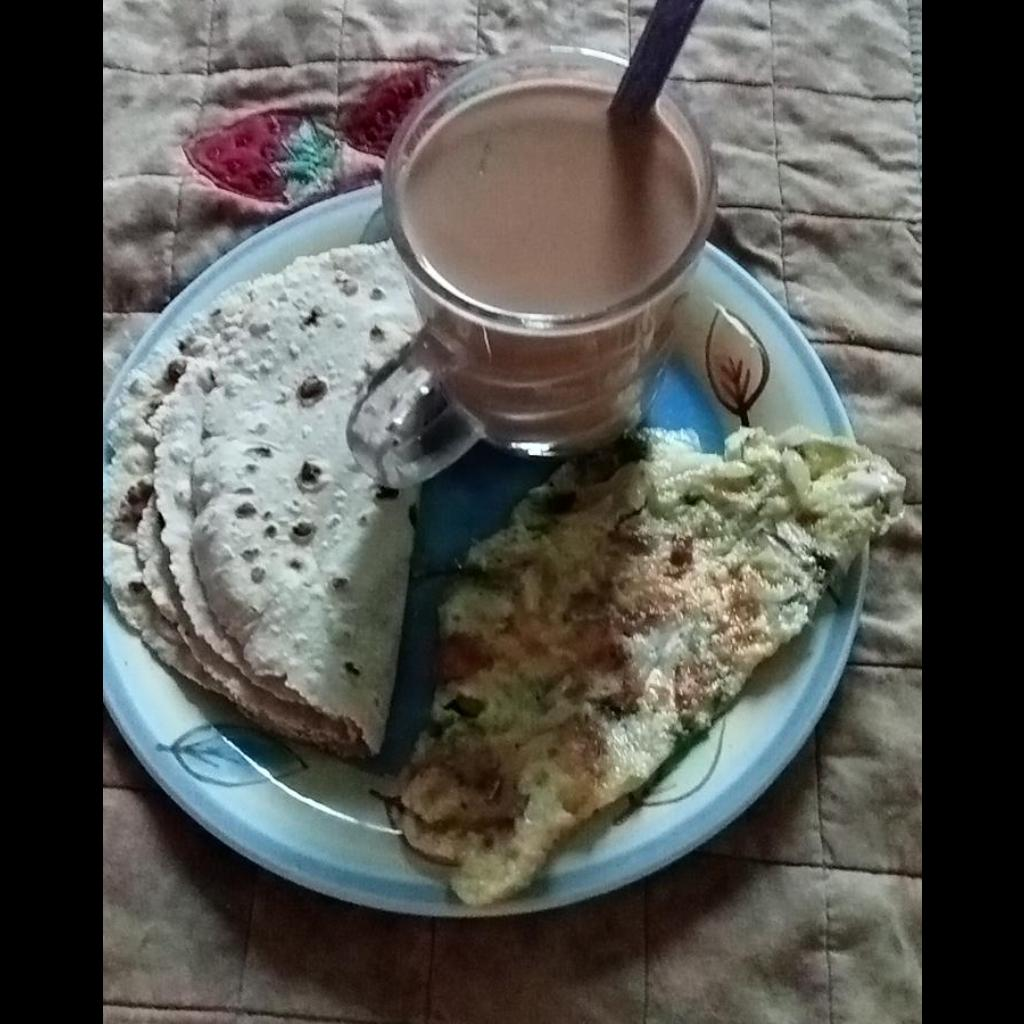cha: (402, 85, 698, 315)
egg-poached: (400, 428, 910, 901)
ruti: (102, 237, 415, 757)
